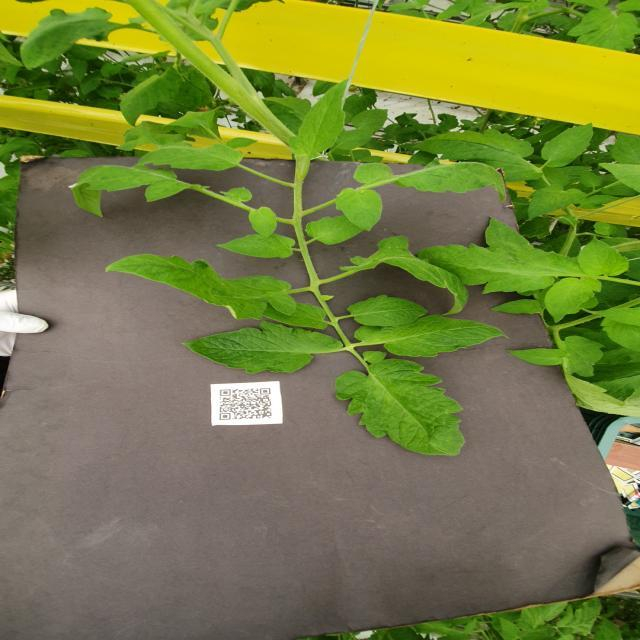Tomato healthy leaf: (103, 252, 296, 322), (332, 357, 468, 456), (339, 235, 471, 316), (179, 320, 343, 374), (416, 241, 580, 295), (412, 128, 543, 182), (68, 164, 194, 218), (356, 314, 510, 358), (18, 6, 120, 70), (352, 161, 507, 201), (288, 78, 346, 158), (120, 65, 183, 128), (136, 143, 244, 172), (344, 294, 430, 328), (544, 277, 604, 324), (541, 121, 596, 170), (216, 230, 300, 260), (578, 234, 632, 276), (526, 183, 586, 220), (334, 188, 382, 232), (305, 214, 365, 246), (504, 347, 566, 368), (248, 205, 278, 240), (351, 108, 389, 134), (334, 126, 374, 150), (492, 298, 542, 316)
